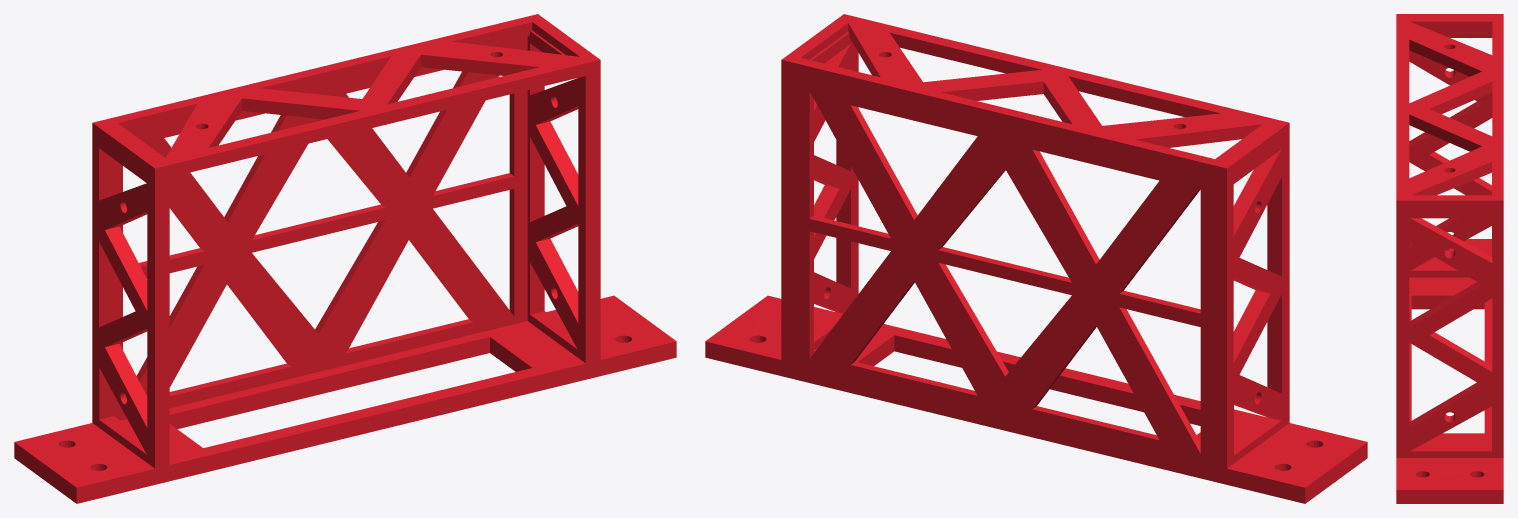
The model's file is tinker.obj.
3 views of the same model, side by side, from view 1: azimuth 30°, elevation 25°; view 2: azimuth 150°, elevation 25°; view 3: azimuth 270°, elevation 25° (orthographic). The views are drawn at different scales.
Parts seen in each view (by area): view 1: obj_0; view 2: obj_0; view 3: obj_0.
Part boxes in pixels (left/top/right/bottom): obj_0: left=14, top=14, right=676, bottom=503; obj_0: left=705, top=14, right=1367, bottom=503; obj_0: left=1396, top=14, right=1503, bottom=503.
Size of the model in its own units: 155 by 78.1 by 28.
